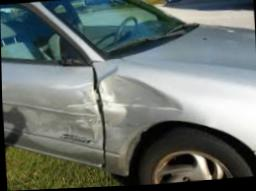Door: (2, 61, 105, 170)
Fender: (90, 60, 200, 174)
